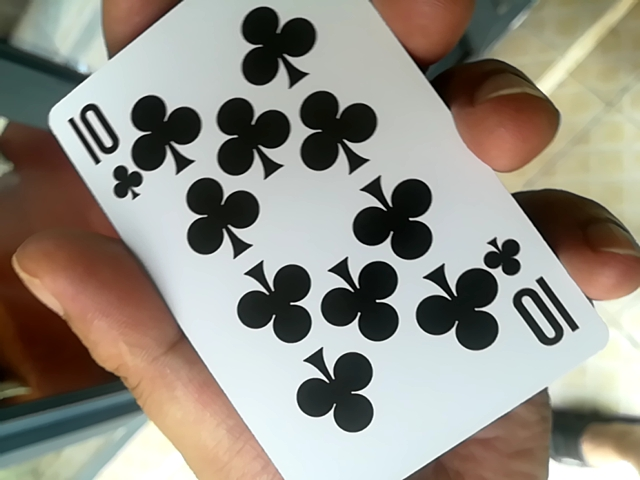mh 10: (49, 10, 599, 475)
